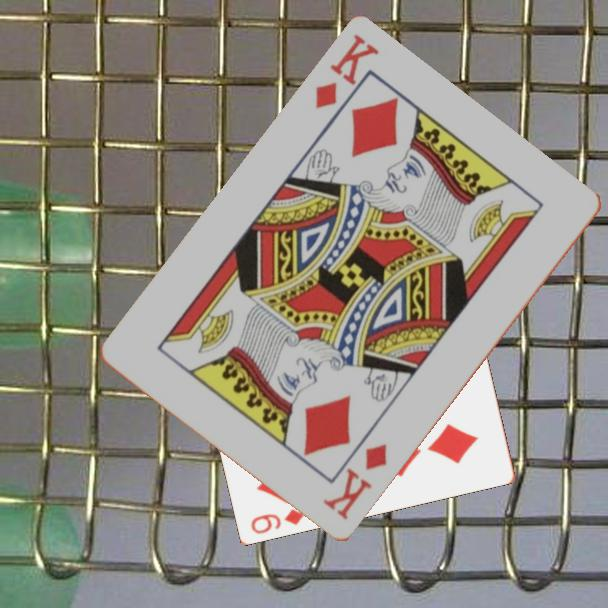d09: (247, 505, 307, 536)
d13: (319, 441, 390, 524), (311, 30, 382, 113)
